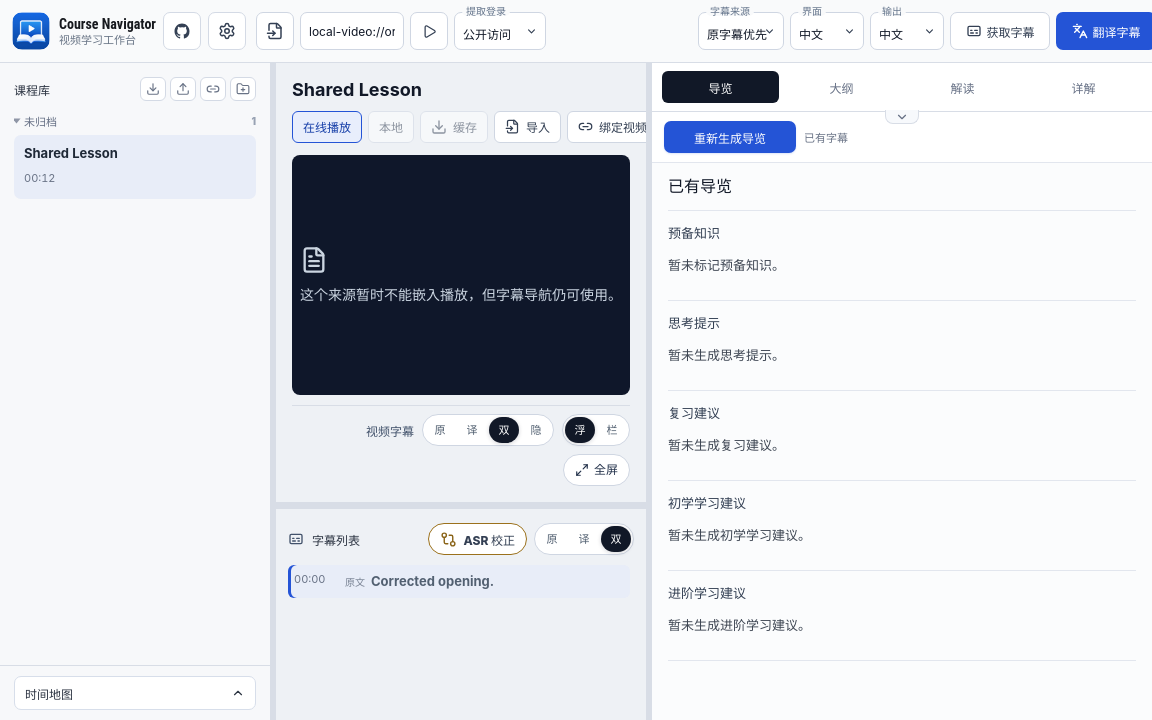
Test: App language defaults › offers binding a video source for imported artifacts without a video file
Click the button "绑定视频源" at {"x": 619, "y": 127}, box [567,111,670,143]
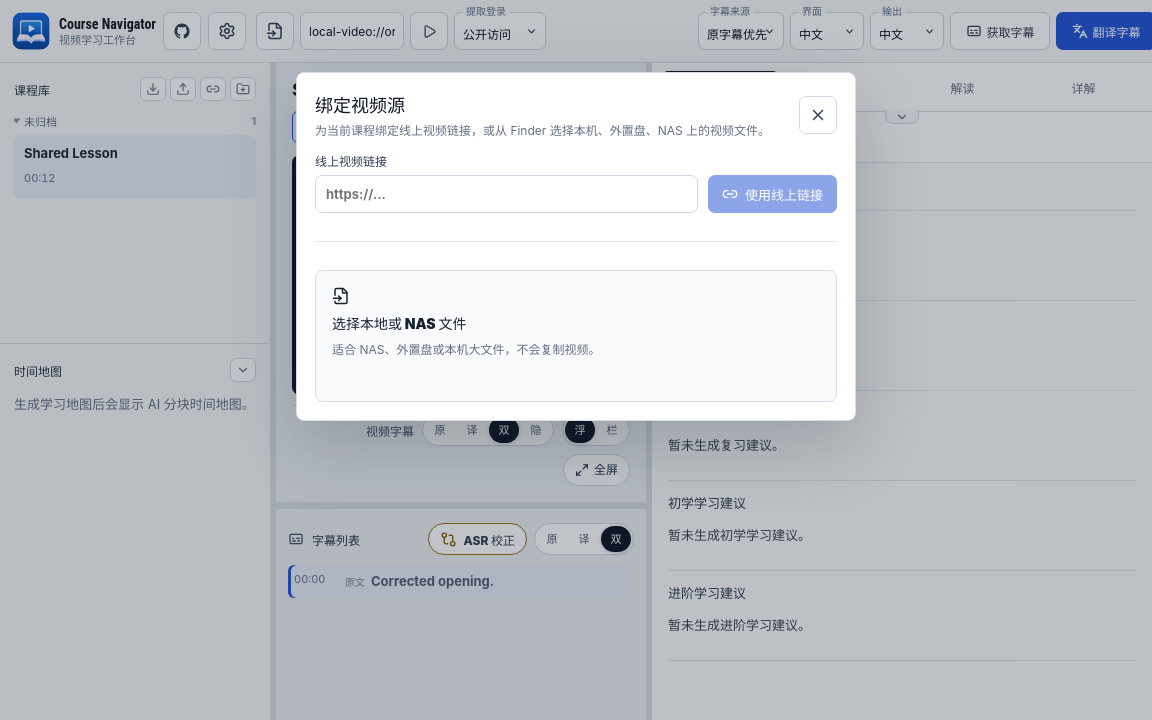
Click the button "选择本地或 NAS 文件 适合 NAS、外置盘或本机大文件，不会复制视频。" at {"x": 399, "y": 324}, box [315,270,837,402]
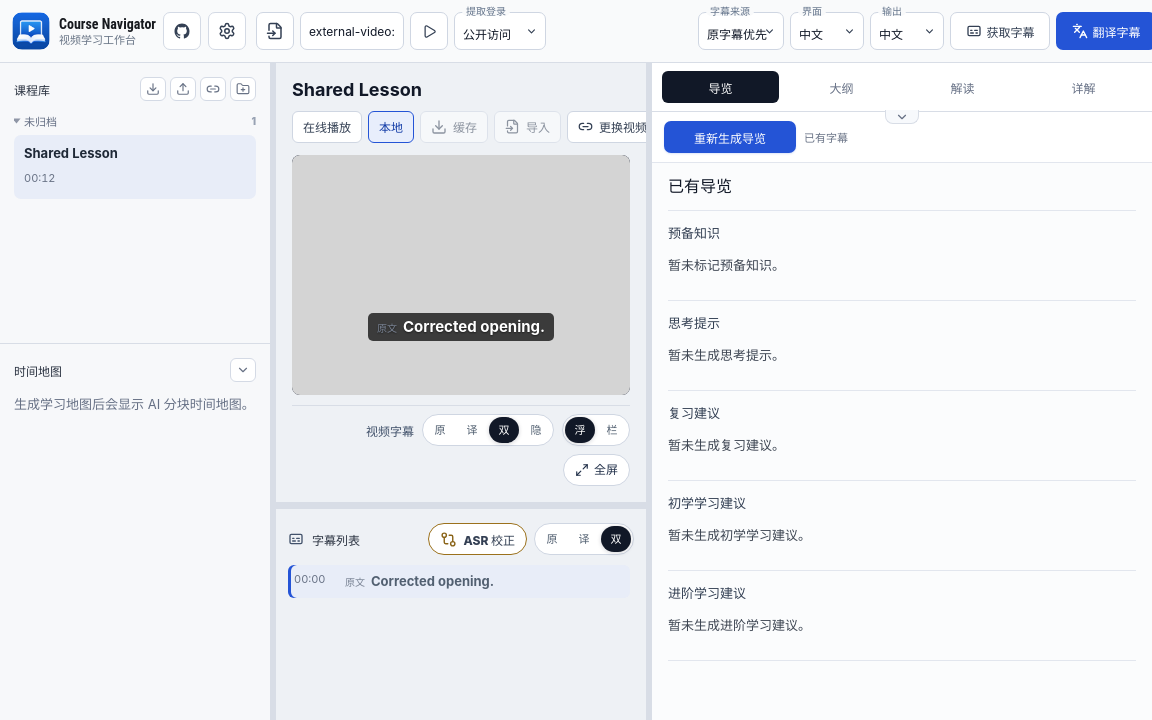
Expected: the heading "Shared Lesson" is shown, [292,79,422,100]
Expected: the button "本地" is enabled, [368,111,414,143]
